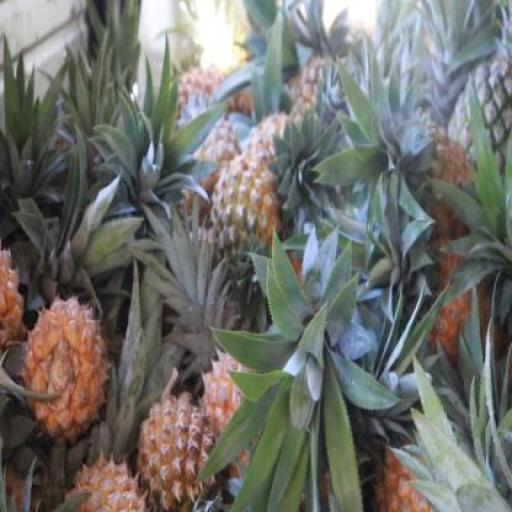Pineapple - v8 v1: (24, 303, 104, 437), (137, 399, 216, 512)
